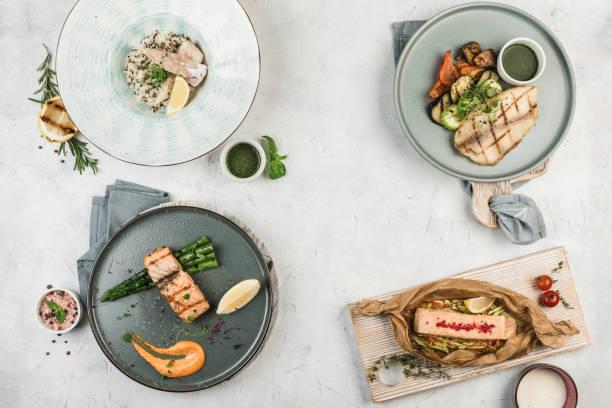Braised Crucian Carp: (347, 245, 590, 404), (88, 204, 274, 394), (394, 2, 575, 183), (56, 0, 258, 162)
